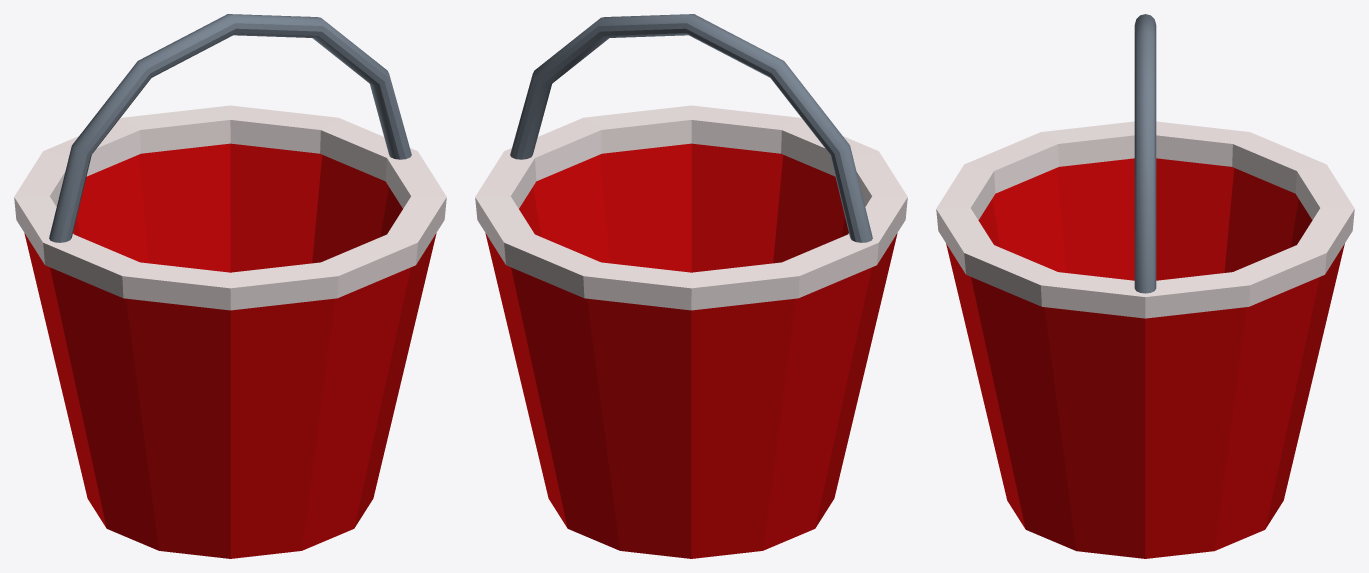
File: Bin_A.fbx
The picture shows the model from 3 angles, left to right: view 1: azimuth 30°, elevation 25°; view 2: azimuth 150°, elevation 25°; view 3: azimuth 270°, elevation 25°; orthographic projection. The views are drawn at different scales.
Visible parts, largest first — view 1: Bin_A; view 2: Bin_A; view 3: Bin_A.
Part boxes in pixels (x1,y1,x2,y2): Bin_A: (14, 14, 446, 558); Bin_A: (475, 14, 907, 558); Bin_A: (936, 14, 1354, 558).
Bounding box in the file's own units: 21.05 × 25.97 × 21.05.
Materials: 1 (1 with a texture image).
